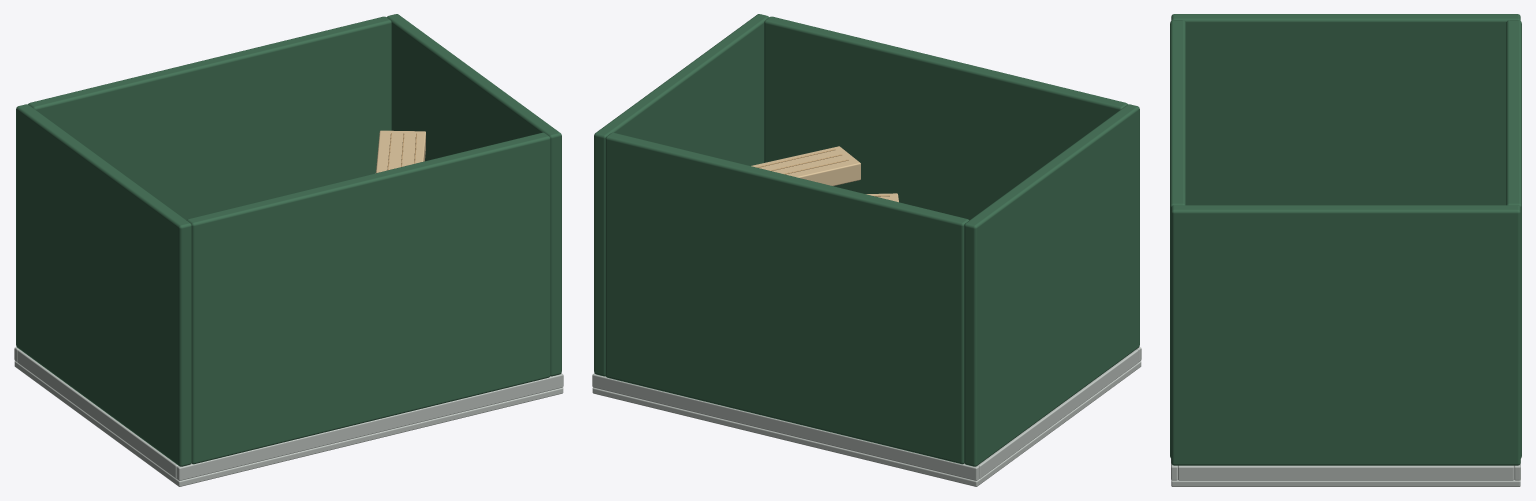
The model's file is sawmill-and-timber-yard-offcut-bin-9f180113__31185.glb.
3 renders of one model, left to right at view 1: azimuth 30°, elevation 25°; view 2: azimuth 150°, elevation 25°; view 3: azimuth 270°, elevation 25°, orthographic. The views are drawn at different scales.
Visible parts, largest first — view 1: offcut-bin; view 2: offcut-bin; view 3: offcut-bin.
Part boxes in pixels (x1,y1,x2,y2): offcut-bin: [14, 14, 563, 486]; offcut-bin: [592, 14, 1141, 486]; offcut-bin: [1170, 14, 1521, 486].
Size of the model in its own units: 1.05 by 0.68 by 0.785.
